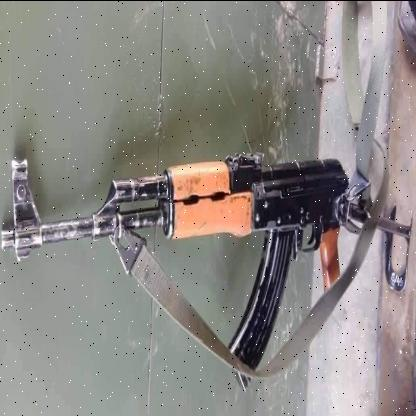rifle: (0, 144, 413, 393)
